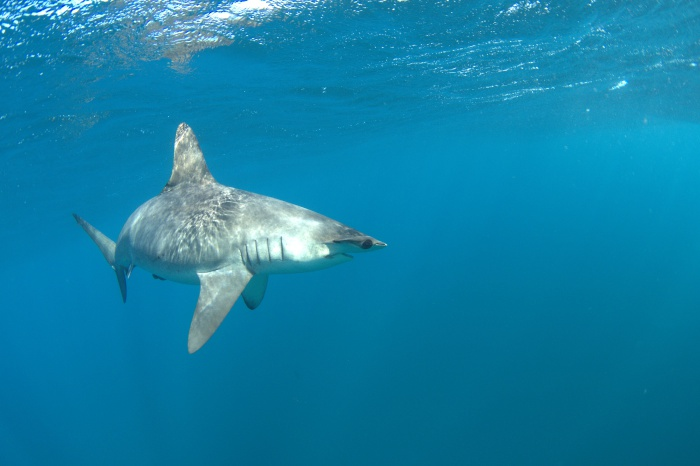Hammer: (43, 85, 416, 362), (278, 214, 481, 335)
